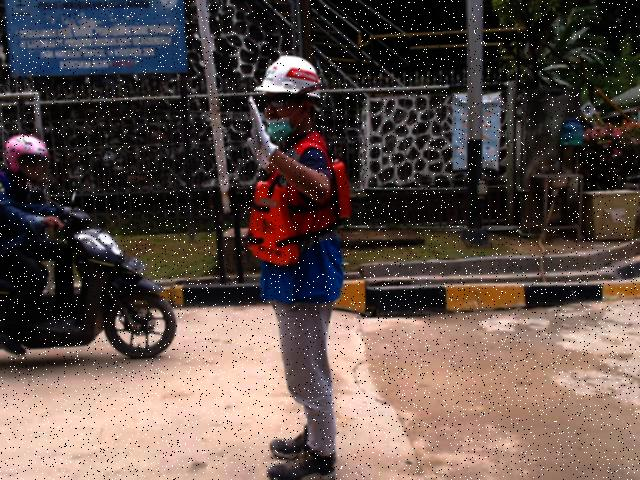glasses: (261, 93, 299, 111)
gloves: (247, 98, 281, 163), (244, 139, 271, 174)
helmet: (247, 51, 325, 99)
mask: (265, 117, 294, 142)
safety-shoes: (266, 449, 339, 480), (267, 426, 310, 460)
vest: (247, 161, 352, 265)
